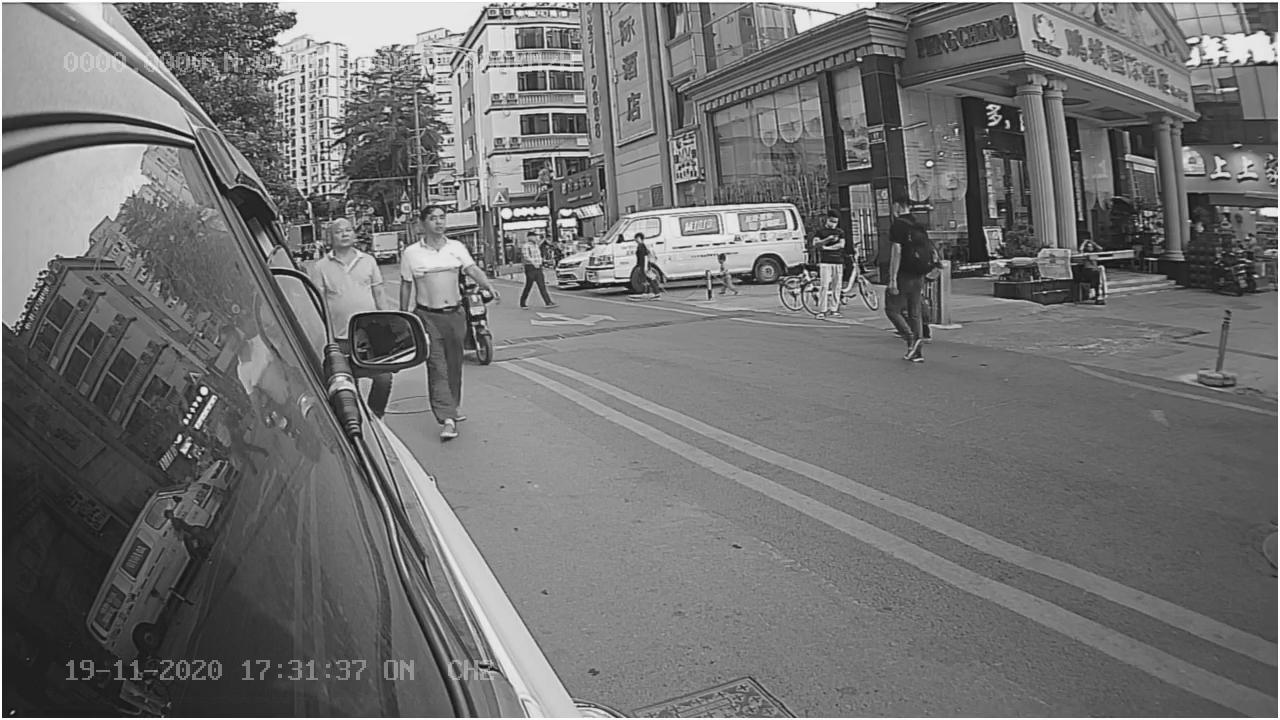person: (394, 200, 490, 306)
